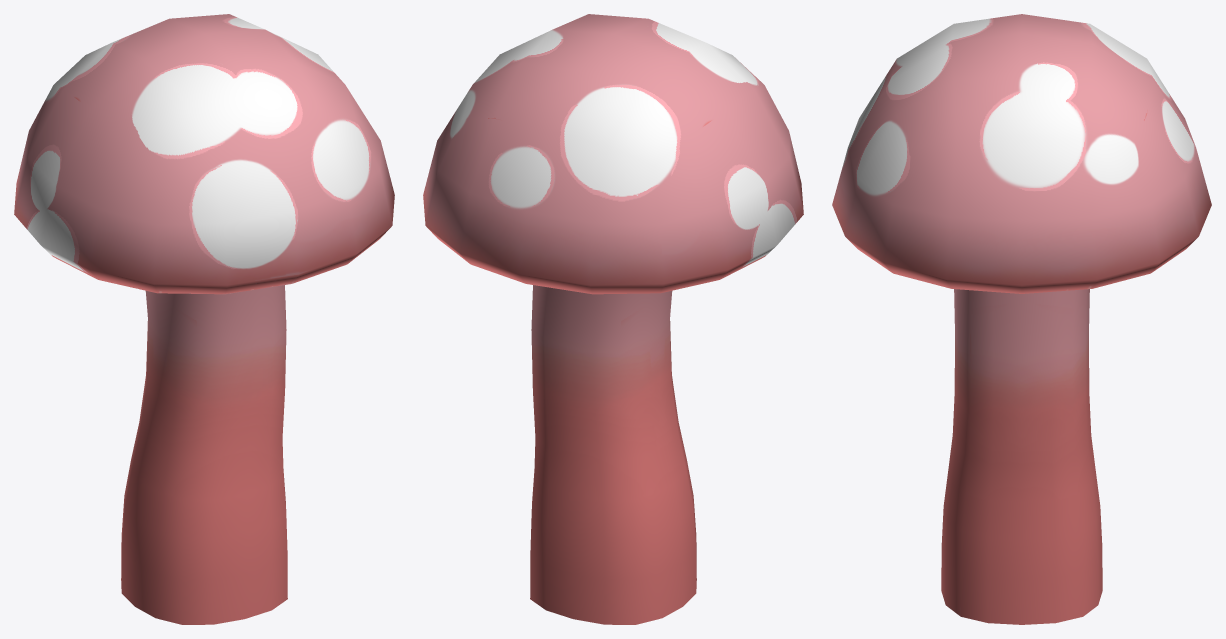
The model's file is fleshMush.fbx.
The picture shows the model from 3 angles, left to right: view 1: azimuth 30°, elevation 25°; view 2: azimuth 150°, elevation 25°; view 3: azimuth 270°, elevation 25°; orthographic projection.
Parts seen in each view (by area): view 1: Cube; view 2: Cube; view 3: Cube.
Part boxes in pixels (x1=…): Cube: x1=14, y1=14, x2=394, y2=624; Cube: x1=423, y1=14, x2=803, y2=624; Cube: x1=832, y1=14, x2=1211, y2=624.
Bounding box in the file's own units: 151 × 244 × 151.
